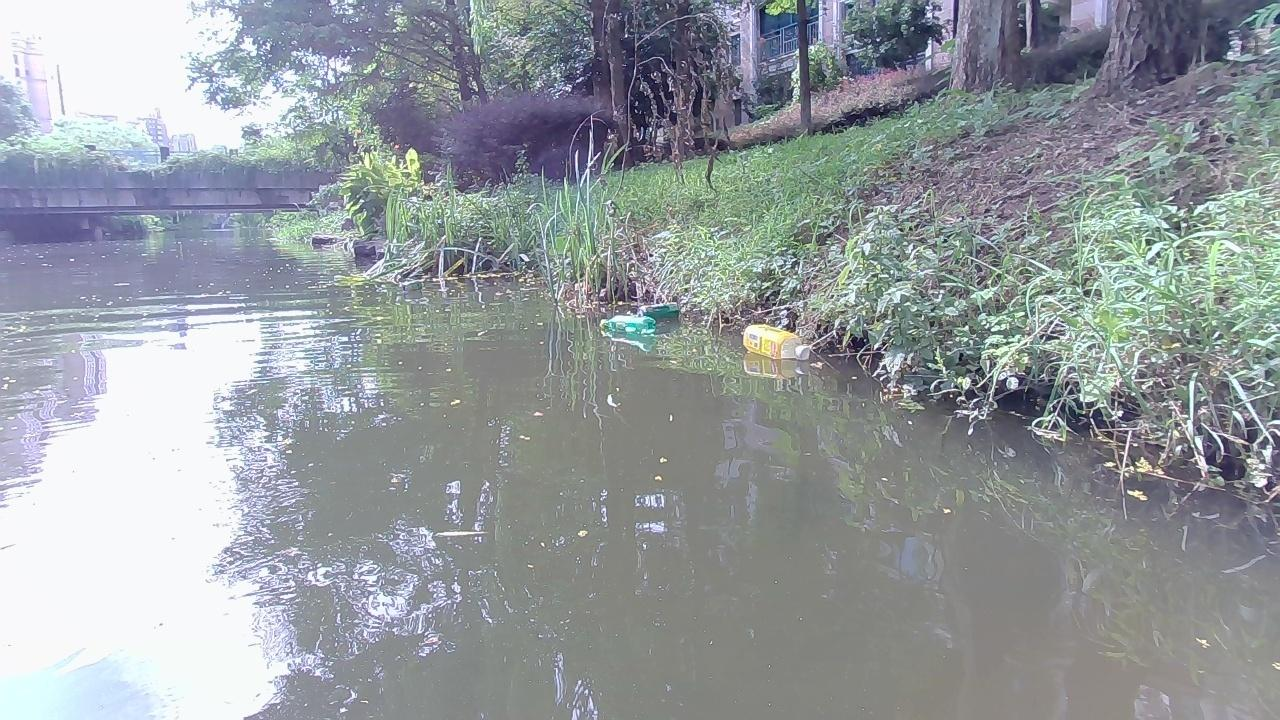bottle: (740, 324, 817, 363), (599, 315, 657, 336), (639, 299, 681, 321)
